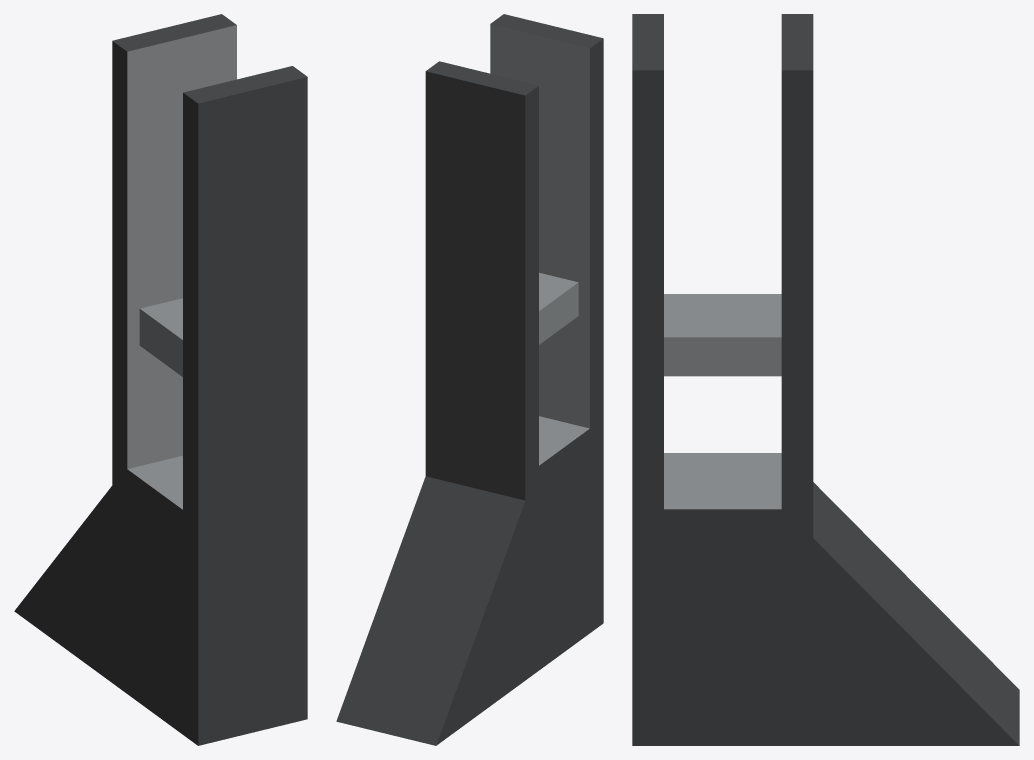
File: Short_column_005.glb
3 views of the same model, side by side, from view 1: azimuth 30°, elevation 25°; view 2: azimuth 150°, elevation 25°; view 3: azimuth 270°, elevation 25° (orthographic). The views are drawn at different scales.
Visible parts, largest first — view 1: Short_column_005; view 2: Short_column_005; view 3: Short_column_005.
Boxes of the visible parts, x1,y1,x2,y2 form: Short_column_005: (14, 14, 307, 745); Short_column_005: (336, 14, 603, 745); Short_column_005: (632, 14, 1019, 745).
Bounding box in the file's own units: 0.2321 × 1.3 × 0.6749.
Materials: 1 (1 with a texture image).
